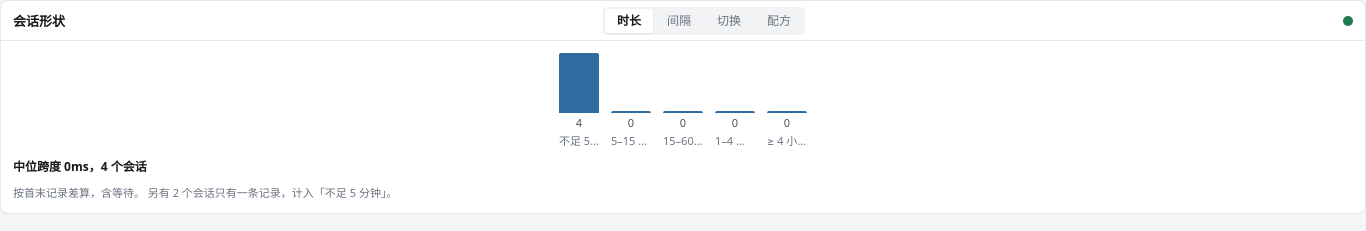
SessionShapePanel（会话形状卡） › 配方档：只列出现 ≥2 次的组合，并说明无工具会话
Click the tab "配方" at (779, 20), box [755,8,803,32]
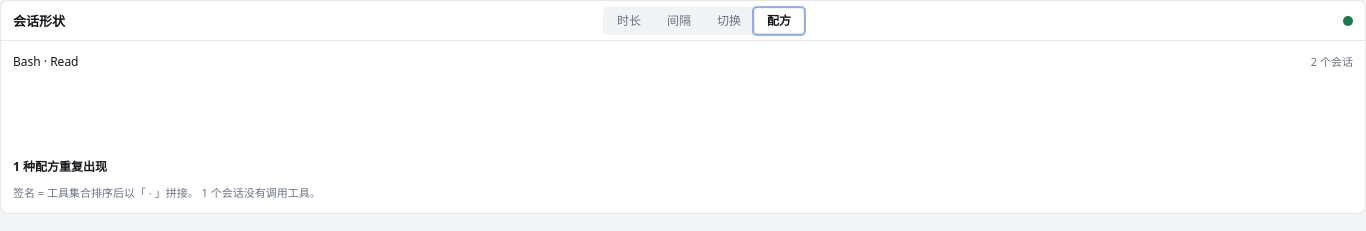
Expected: the text "Bash · Read" is shown, [13,53,78,71]
Expected: the text "1 种配方重复出现" is shown, [13,158,107,175]
Expected: the text "签名 = 工具集合排序后以「 · 」拼接。 1 个会话没有调用工具。" is shown, [13,185,321,200]
